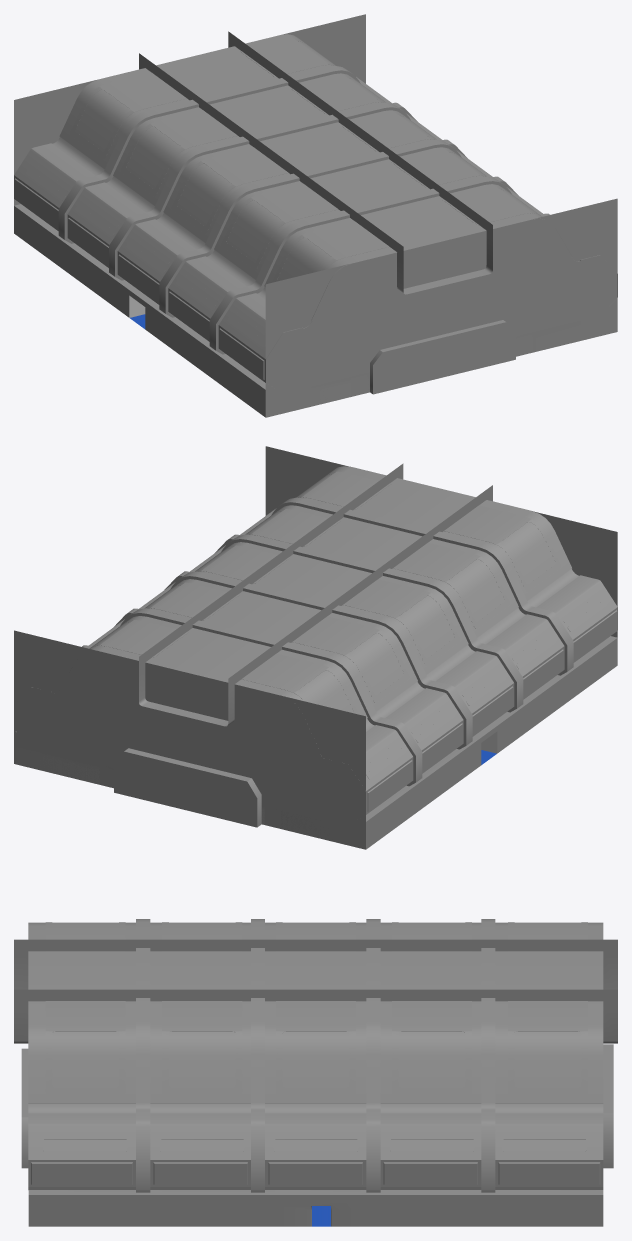
The model's file is Building_Main.fbx.
3 renders of one model, top to bottom at view 1: azimuth 30°, elevation 25°; view 2: azimuth 150°, elevation 25°; view 3: azimuth 270°, elevation 25°, orthographic. The views are drawn at different scales.
Visible parts, largest first — view 1: Box001, Object001, Object006, Shape002, Box004, Box002, Box003; view 2: Box001, Object001, Object006, Shape002, Box004, Box003, Box002; view 3: Box001, Object006, Box004, Box002, Shape002, Box003.
Boxes of the visible parts, bbox=[...] form: Box001: bbox=[14, 34, 617, 382]; Object001: bbox=[14, 14, 617, 409]; Object006: bbox=[25, 39, 540, 347]; Shape002: bbox=[58, 66, 549, 354]; Box004: bbox=[14, 204, 617, 417]; Box002: bbox=[139, 31, 492, 294]; Box003: bbox=[370, 320, 515, 394]; Box001: bbox=[16, 466, 617, 814]; Object001: bbox=[14, 446, 617, 849]; Object006: bbox=[89, 471, 606, 778]; Shape002: bbox=[82, 497, 573, 786]; Box004: bbox=[14, 636, 617, 849]; Box003: bbox=[114, 748, 261, 827]; Box002: bbox=[139, 463, 492, 726]; Box001: bbox=[28, 922, 603, 1189]; Object006: bbox=[43, 922, 587, 1151]; Box004: bbox=[28, 1190, 603, 1226]; Box002: bbox=[14, 939, 617, 1043]; Shape002: bbox=[136, 919, 495, 1192]; Box003: bbox=[21, 1044, 613, 1168].
Size of the model in its own units: 4255 by 1664 by 5455.
